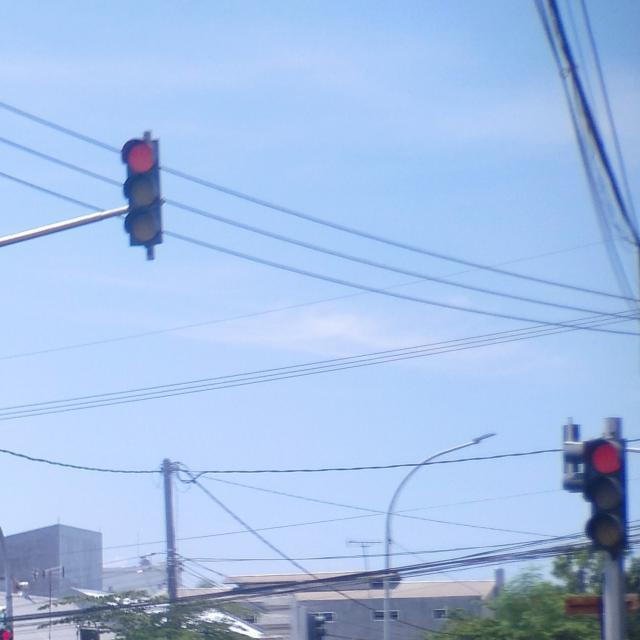red_light: (562, 420, 626, 551), (119, 129, 160, 257)
